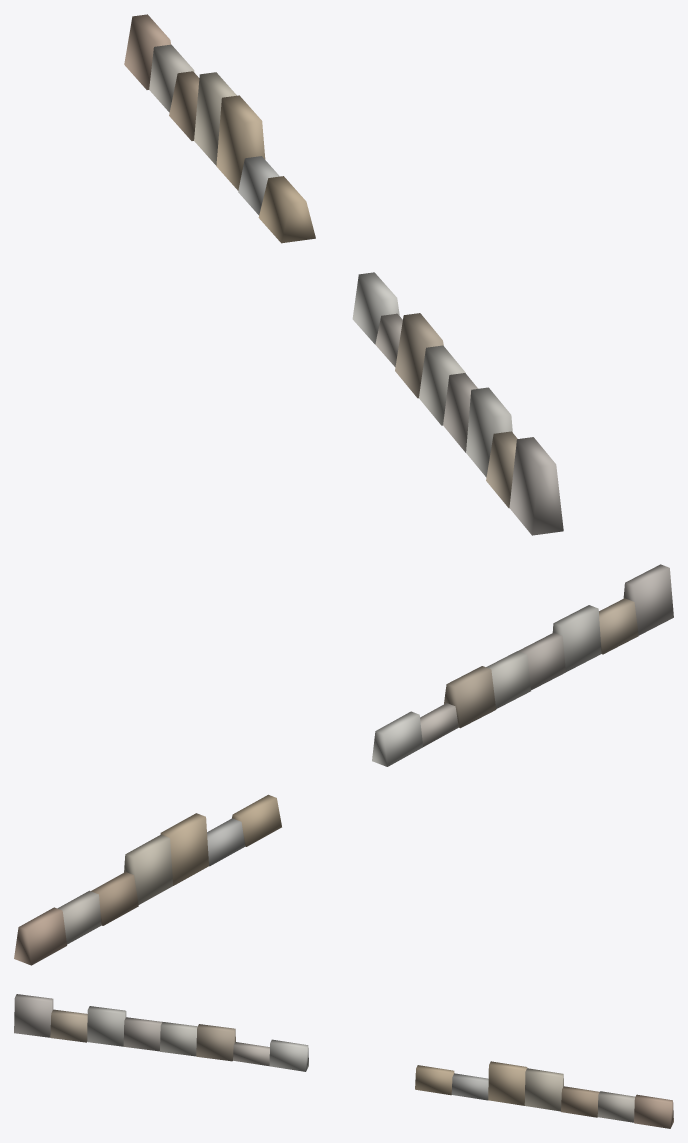
The model's file is farm_26_40_collision.glb.
3 renders of one model, top to bottom at view 1: azimuth 30°, elevation 25°; view 2: azimuth 150°, elevation 25°; view 3: azimuth 270°, elevation 25°, orthographic. The views are drawn at different scales.
Visible parts, largest first — view 1: geometry_0; view 2: geometry_0; view 3: geometry_0.
Boxes of the visible parts, left/top/right/bottom form: geometry_0: left=124, top=14, right=563, bottom=535; geometry_0: left=14, top=564, right=673, bottom=965; geometry_0: left=14, top=994, right=673, bottom=1128.
Size of the model in its own units: 6.54 by 3.12 by 27.01.
